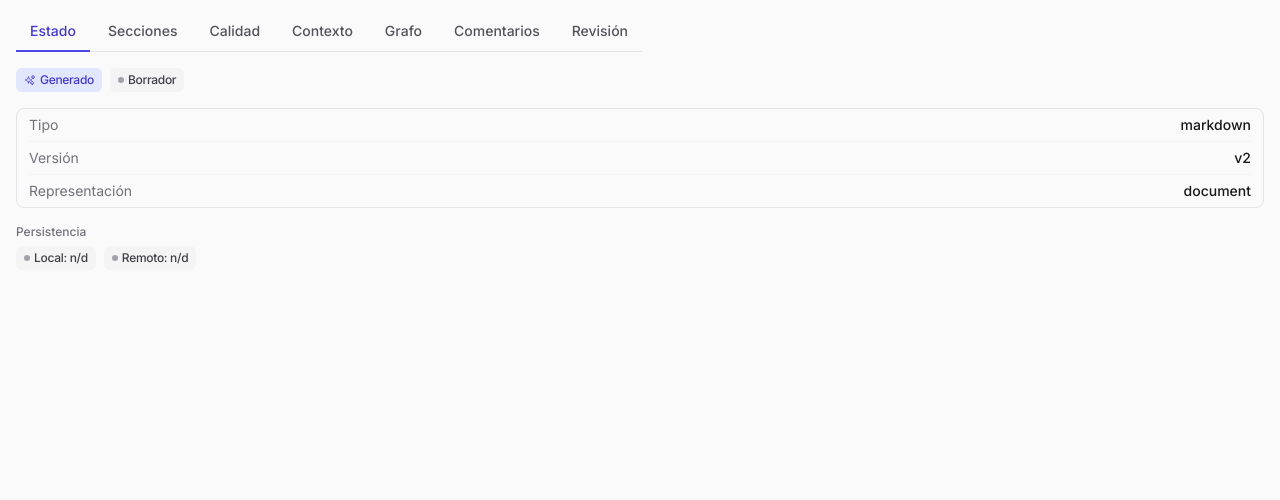
Scenario: ArtifactInspectorPanel › switches to the Comentarios tab and renders the thread composer
What coordinates should you click on to do the following:
click the tab "Comentarios"
I would click on:
 (497, 32)
Its box is [440,12,554,52].
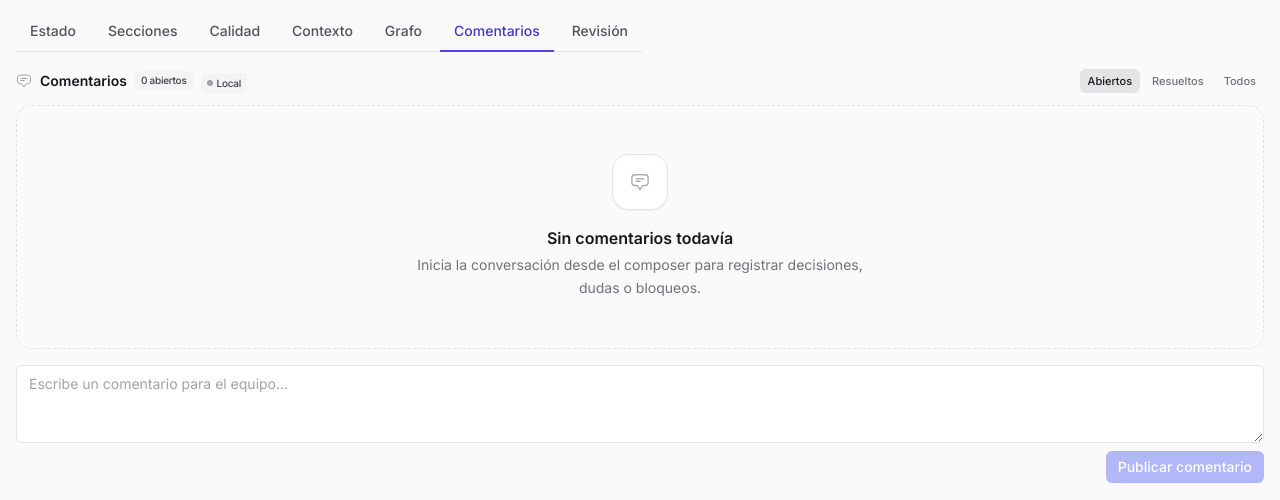
expect the button "Publicar comentario" is shown: met, box [1106,450,1264,482]
